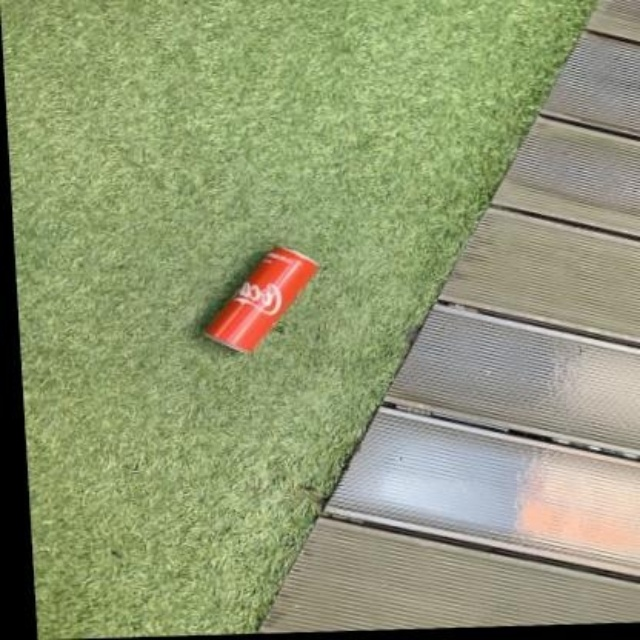trash: (205, 248, 318, 351)
